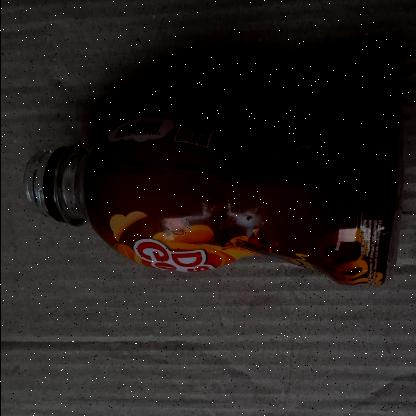Plastic Bottle: (23, 113, 410, 289)
